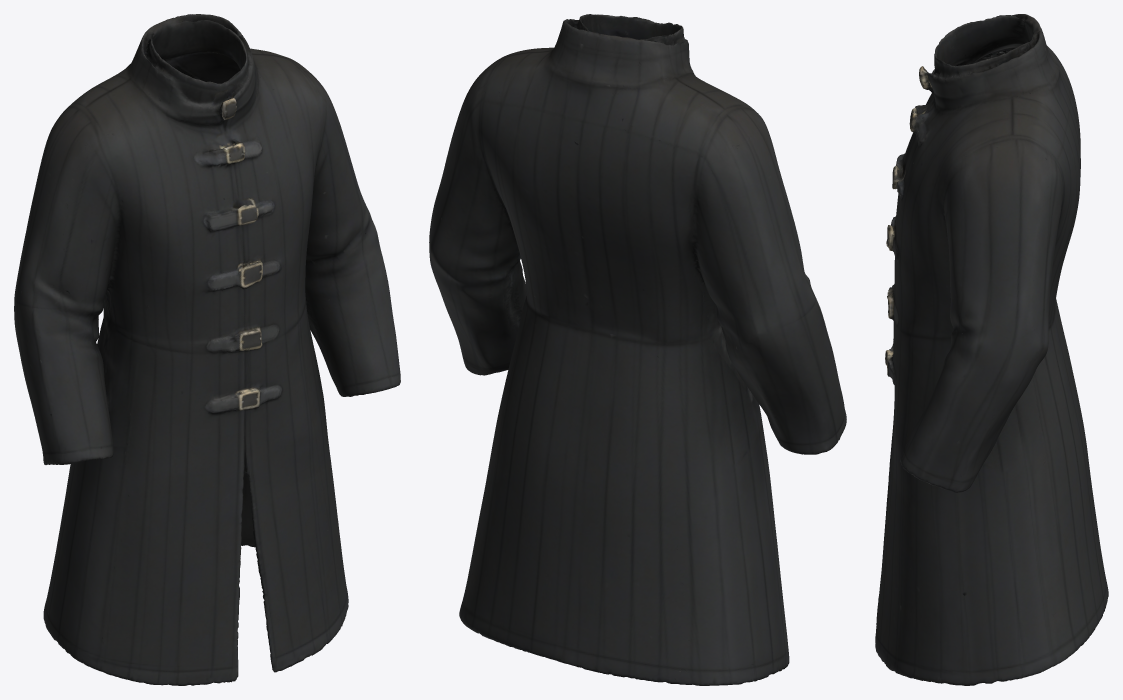
File: Gambeson.glb
3 views of the same model, side by side, from view 1: azimuth 30°, elevation 25°; view 2: azimuth 150°, elevation 25°; view 3: azimuth 270°, elevation 25° (orthographic). The views are drawn at different scales.
Size of the model in its own units: 1.23 by 2 by 0.6955.
1 material, 1 textured.
